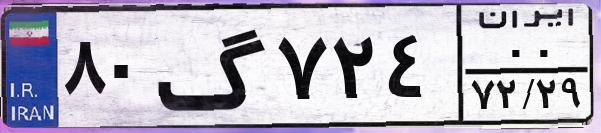0: (110, 28, 156, 98), (537, 27, 568, 80), (508, 27, 537, 80)
2: (330, 28, 385, 110), (495, 70, 520, 125), (535, 70, 560, 125)
4: (385, 28, 445, 110)
7: (270, 28, 330, 110), (470, 70, 495, 125)
8: (57, 26, 110, 100)
9: (560, 70, 590, 125)
گ: (156, 12, 270, 120)
